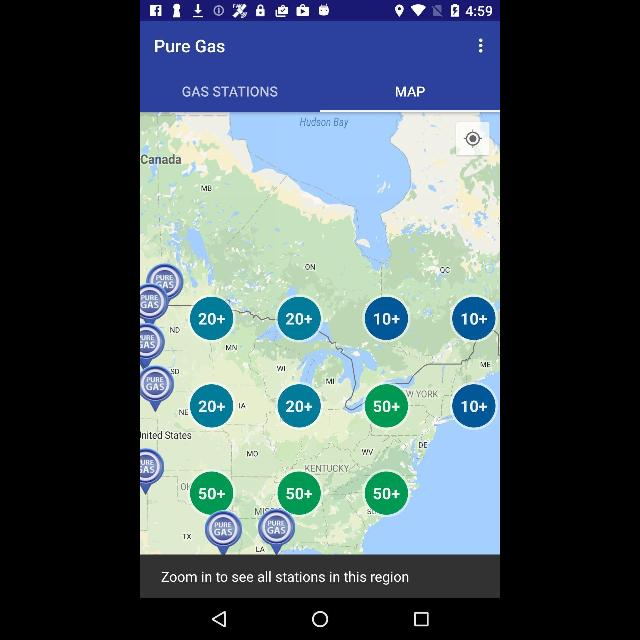icon: (311, 612, 329, 628), (214, 611, 226, 629), (414, 613, 428, 627), (477, 36, 485, 54)
map: (141, 112, 499, 598)
multitab: (141, 70, 499, 112)
panel: (141, 600, 499, 640)
text: (162, 570, 410, 588), (181, 85, 279, 97), (155, 40, 225, 56), (396, 86, 426, 100)
toolbar: (140, 21, 500, 71)
uppertaskbar: (140, 1, 500, 22)
